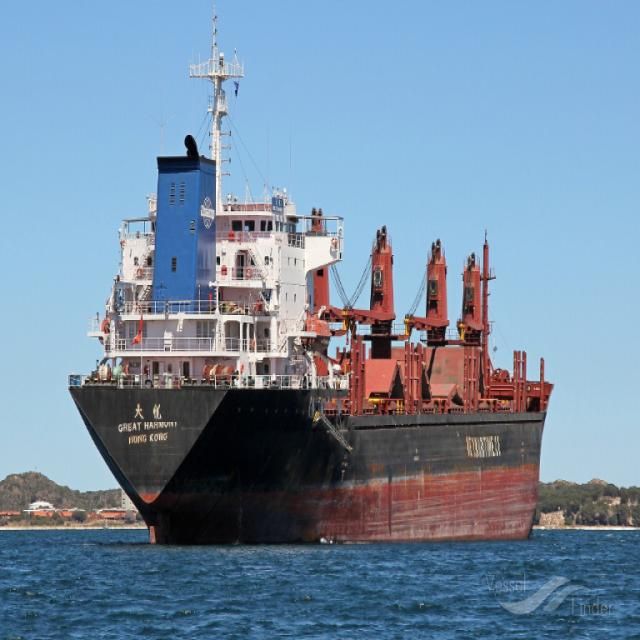OCR: (108, 422, 181, 456), (452, 428, 502, 466)
